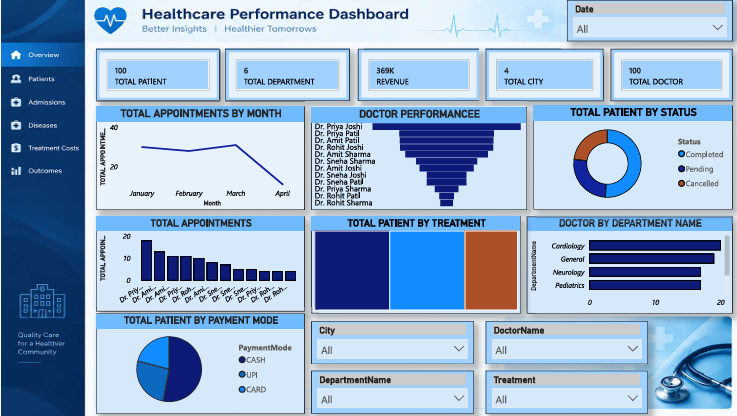

The page's visual inventory and layout, read from the dashboard file:
{"tool":"powerbi","page":{"name":"HEALTHCARE DASHBOARD","canvas":[1280,720],"ordinal":0},"visuals":[{"type":"image","box":[0,0,1270.7,720.4],"z":0},{"type":"cardVisual","fields":{"Data":["Appointments.TOTAL PATIENT"]},"box":[161.9,83.7,212.7,90.6],"z":1},{"type":"cardVisual","fields":{"Data":["Doctors.TOTAL DOCTOR"]},"box":[1047,83.7,209.9,90.6],"z":2},{"type":"cardVisual","fields":{"Data":["Billing.REVENUE"]},"box":[612,83.7,209.9,90.6],"z":3},{"type":"cardVisual","fields":{"Data":["Departments.TOTAL DEPARTMENT"]},"box":[384.2,83.7,214.1,90.6],"z":4},{"type":"cardVisual","fields":{"Data":["Patients.TOTAL CITY"]},"box":[831.6,83.7,203.1,90.6],"z":5},{"type":"lineChart","title":"TOTAL APPOINTMENTS BY MONTH","fields":{"Category":["Appointments.Date.Variation.Date Hierarchy.Month"],"Y":["Appointments.TOTAL APPOINTMENTS"]},"box":[161.9,182.5,359.5,178.4],"z":6},{"type":"funnel","title":"DOCTOR PERFORMANCEE","fields":{"Category":["Doctors.DoctorName"],"Y":["Billing.REVENUE"]},"box":[532.4,183.9,370.5,177],"z":7},{"type":"clusteredColumnChart","title":"TOTAL APPOINTMENTS","fields":{"Category":["Doctors.DoctorName"],"Y":["Appointments.TOTAL APPOINTMENTS"]},"box":[161.9,371.9,359.5,163.3],"z":8},{"type":"clusteredBarChart","title":" DOCTOR BY DEPARTMENT NAME","fields":{"Category":["Departments.DepartmentName"],"Y":["Doctors.TOTAL DOCTOR"]},"box":[902.9,371.9,354,167.4],"z":9},{"type":"donutChart","title":"TOTAL PATIENT BY STATUS","fields":{"Category":["Appointments.Status"],"Y":["Appointments.TOTAL PATIENT"]},"box":[913.9,181.1,343.1,178.4],"z":10},{"type":"treemap","title":"TOTAL PATIENT BY TREATMENT","fields":{"Group":["Treatments.Treatment"],"Values":["Appointments.TOTAL PATIENT"]},"box":[532.4,371.9,360.9,167.4],"z":11},{"type":"pieChart","title":"TOTAL PATIENT BY PAYMENT MODE","fields":{"Category":["Billing.PaymentMode"],"Y":["Appointments.TOTAL PATIENT"]},"box":[161.9,539.3,359.5,171.5],"z":12},{"type":"slicer","fields":{"Values":["Patients.City"]},"box":[532.4,551.6,279.9,74.1],"z":13},{"type":"slicer","fields":{"Values":["Departments.DepartmentName"]},"box":[532.4,636.7,279.9,74.1],"z":14},{"type":"slicer","fields":{"Values":["Doctors.DoctorName"]},"box":[831.6,551.6,279.9,74.1],"z":15},{"type":"slicer","fields":{"Values":["Treatments.Treatment"]},"box":[831.6,636.7,279.9,74.1],"z":16},{"type":"slicer","fields":{"Values":["Appointments.Date"]},"box":[971.5,0,285.4,71.4],"z":17}]}

Visuals, with their boxes on the page's 1280x720 design canvas (x1, y1, x2, y2). These are canvas units, not pixel positions in the 737x416 screenshot, which may show the page scaled, cropped or inside an application window:
image: <box>0,0,1271,720</box>
cardVisual - Appointments.TOTAL PATIENT: <box>162,84,375,174</box>
cardVisual - Doctors.TOTAL DOCTOR: <box>1047,84,1257,174</box>
cardVisual - Billing.REVENUE: <box>612,84,822,174</box>
cardVisual - Departments.TOTAL DEPARTMENT: <box>384,84,598,174</box>
cardVisual - Patients.TOTAL CITY: <box>832,84,1035,174</box>
"TOTAL APPOINTMENTS BY MONTH" lineChart: <box>162,182,521,361</box>
"DOCTOR PERFORMANCEE" funnel: <box>532,184,903,361</box>
"TOTAL APPOINTMENTS" clusteredColumnChart: <box>162,372,521,535</box>
" DOCTOR BY DEPARTMENT NAME" clusteredBarChart: <box>903,372,1257,539</box>
"TOTAL PATIENT BY STATUS" donutChart: <box>914,181,1257,360</box>
"TOTAL PATIENT BY TREATMENT" treemap: <box>532,372,893,539</box>
"TOTAL PATIENT BY PAYMENT MODE" pieChart: <box>162,539,521,711</box>
slicer - Patients.City: <box>532,552,812,626</box>
slicer - Departments.DepartmentName: <box>532,637,812,711</box>
slicer - Doctors.DoctorName: <box>832,552,1112,626</box>
slicer - Treatments.Treatment: <box>832,637,1112,711</box>
slicer - Appointments.Date: <box>972,0,1257,71</box>
